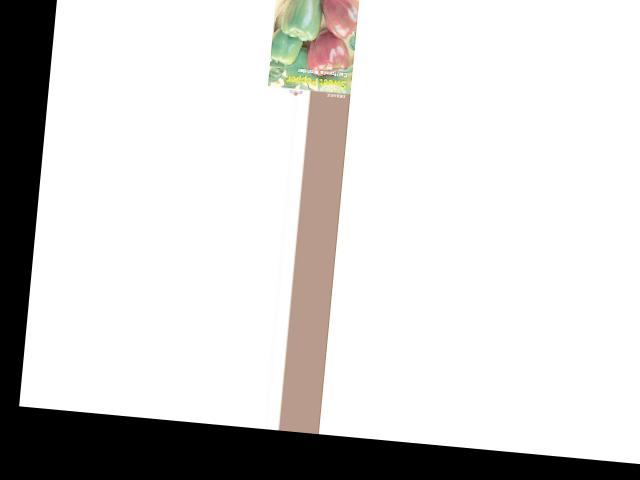bell_pepper: (267, 22, 300, 68)
